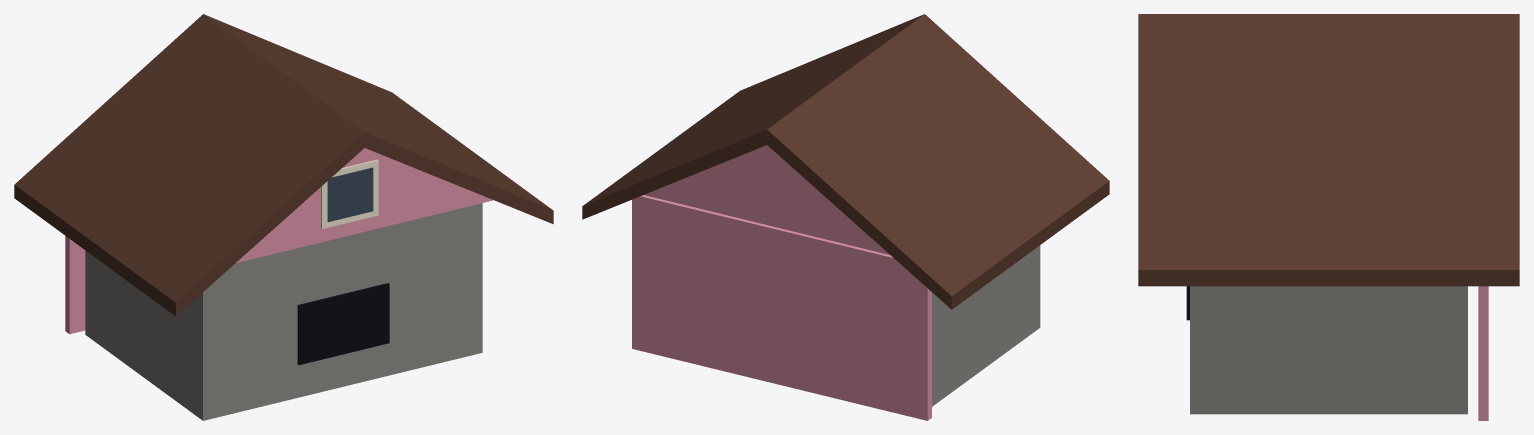
Rendered from chalet_shell.glb.
3 views of the same model, side by side, from view 1: azimuth 30°, elevation 25°; view 2: azimuth 150°, elevation 25°; view 3: azimuth 270°, elevation 25° (orthographic). The views are drawn at different scales.
Visible parts, largest first — view 1: chalet_shell; view 2: chalet_shell; view 3: chalet_shell.
Part boxes in pixels (bbox=[...]): chalet_shell: bbox=[14, 14, 553, 420]; chalet_shell: bbox=[582, 14, 1109, 420]; chalet_shell: bbox=[1138, 14, 1519, 420].
Size of the model in its own units: 10 by 6.85 by 7.4.
